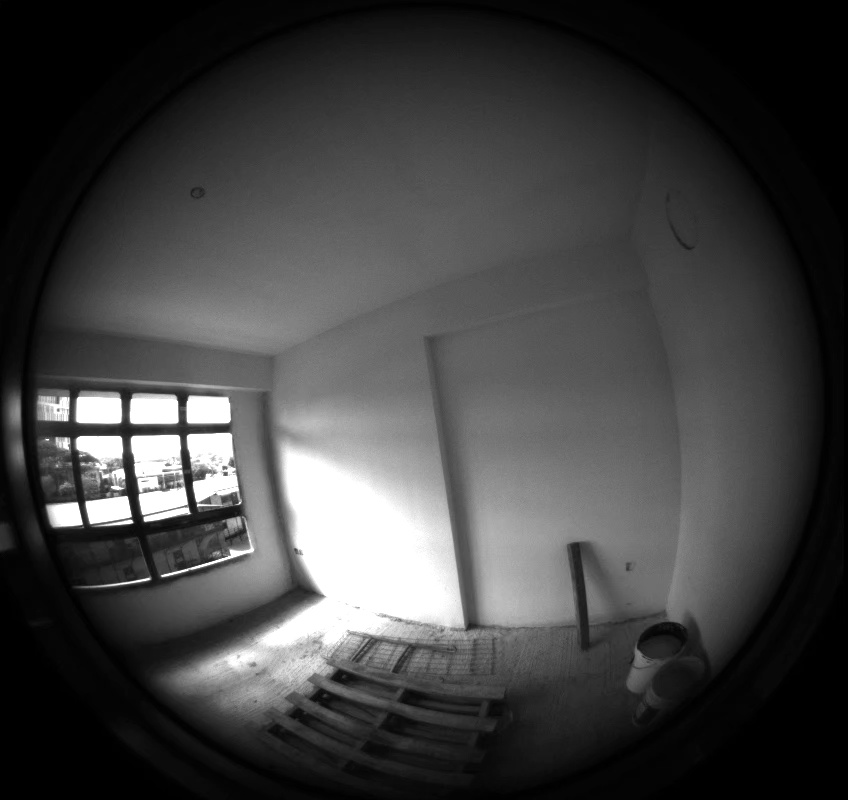Building materials: (164, 45, 495, 674)
Ceiling: (42, 14, 642, 353)
Electrical cable: (14, 11, 204, 198)
Tools: (78, 103, 703, 725), (22, 107, 589, 649)
Wall: (306, 293, 678, 622), (79, 256, 292, 642)
Windows: (36, 201, 251, 586)
